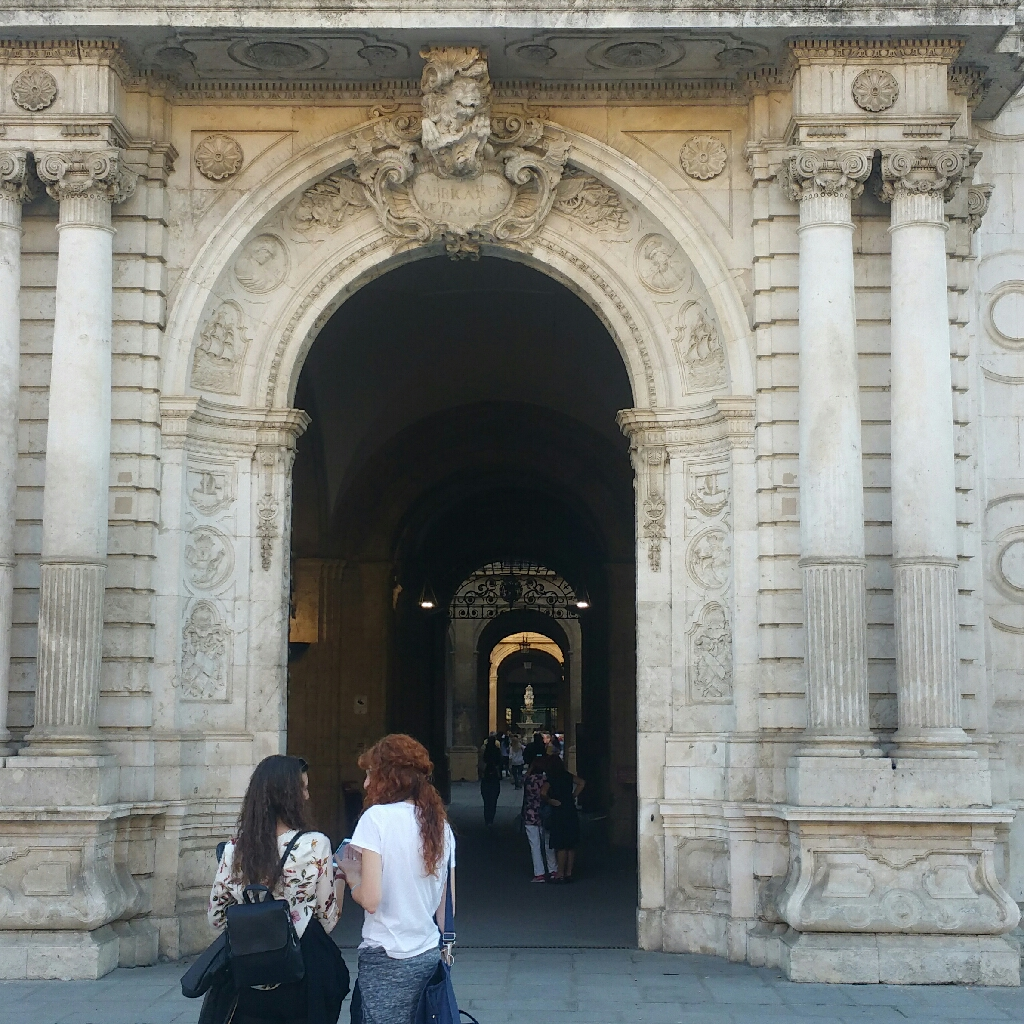arco-medio-punto: (266, 221, 669, 489)
